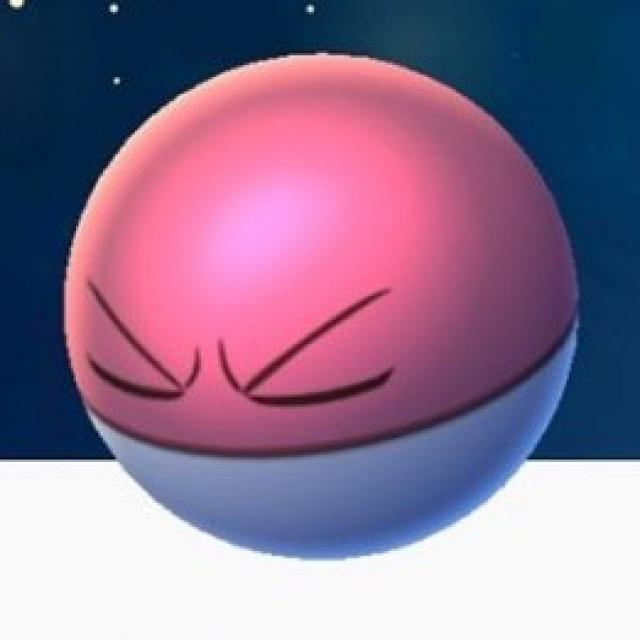Voltorb: (62, 50, 591, 564)
